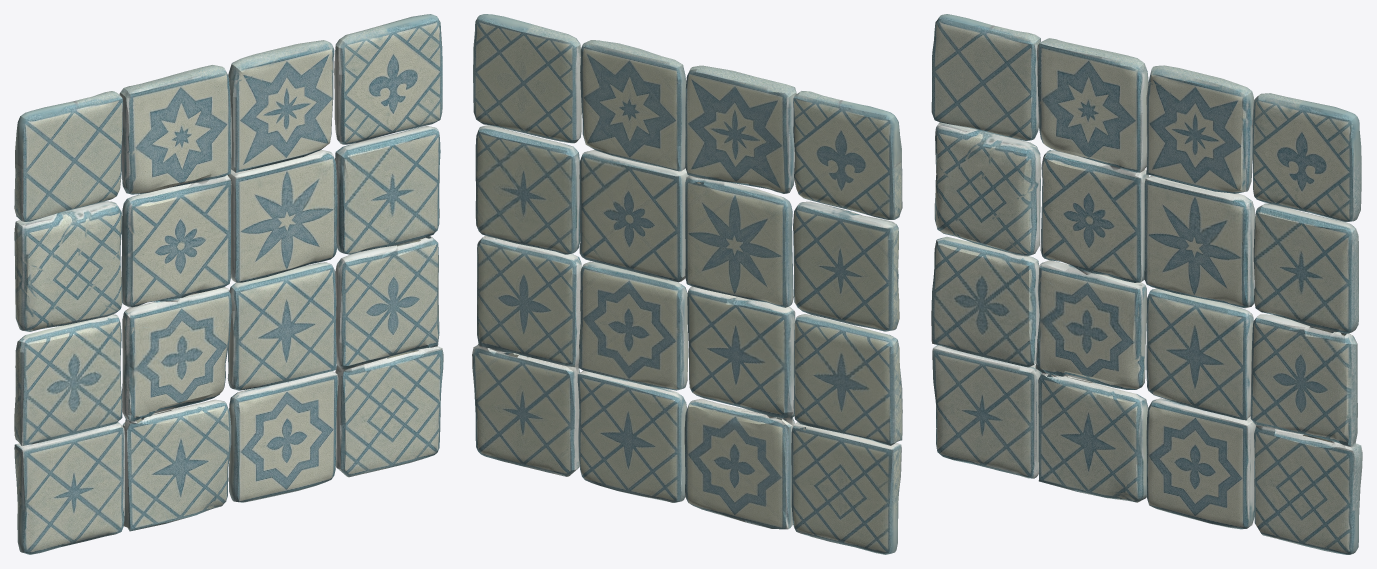
Rendered from City Tiles (tex_city_floor).glb.
3 views of the same model, side by side, from view 1: azimuth 30°, elevation 25°; view 2: azimuth 150°, elevation 25°; view 3: azimuth 330°, elevation 25° (orthographic).
Parts seen in each view (by area): view 1: Mesh0; view 2: Mesh0; view 3: Mesh0.
Part boxes in pixels (bbox=[...]): Mesh0: bbox=[14, 14, 443, 554]; Mesh0: bbox=[472, 14, 902, 554]; Mesh0: bbox=[931, 14, 1362, 554].
Size of the model in its own units: 1.9 by 1.9 by 0.1046.
Materials: 1 (1 with a texture image).
